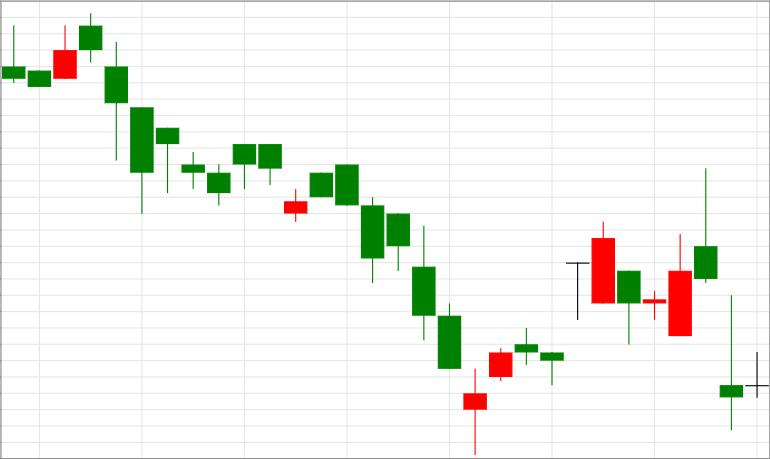morning_star_rise: (335, 164, 512, 455)
shooting_star_fall: (617, 168, 718, 344)
